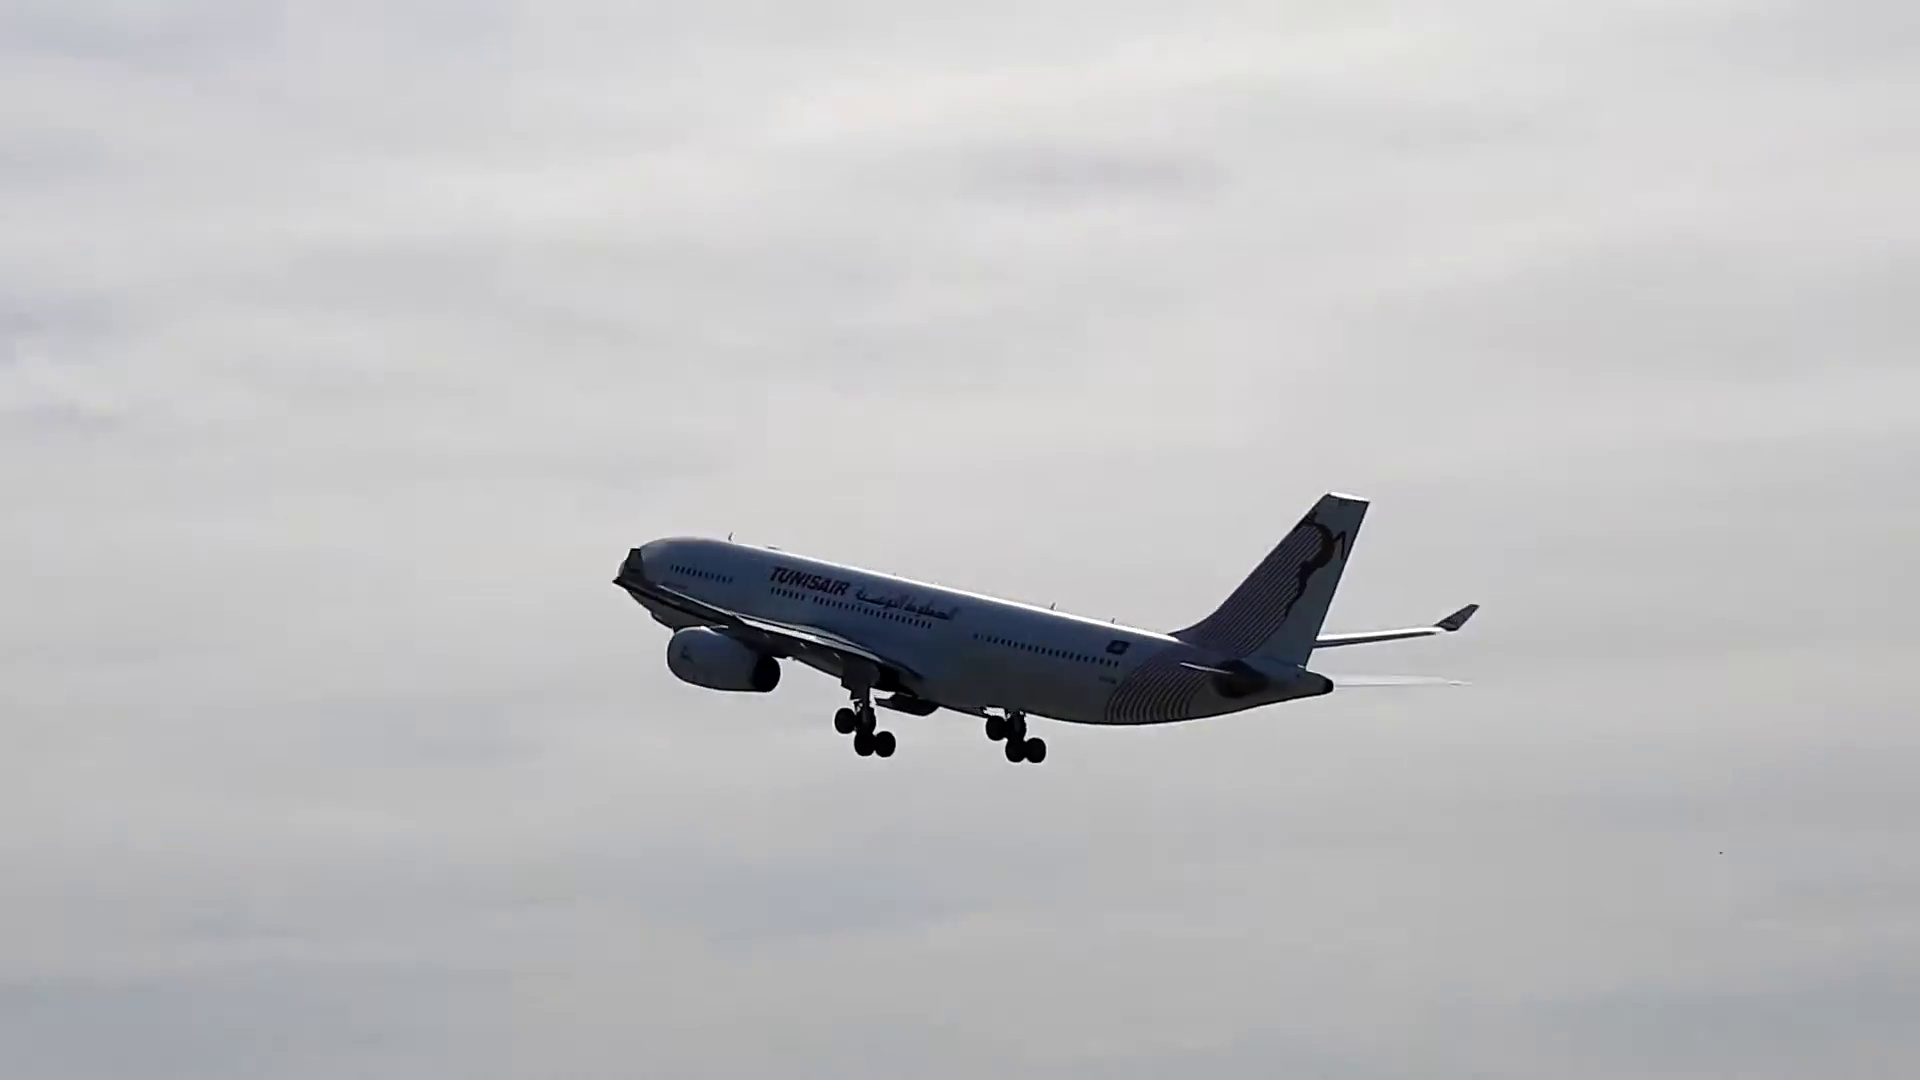Airplane: (615, 493, 1476, 760)
